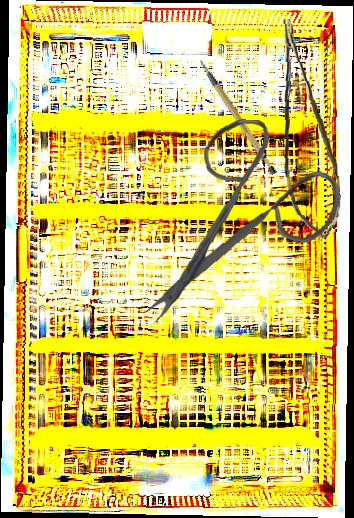Iris Scissors: (142, 114, 345, 334)
Micro Scissor: (276, 16, 345, 241)
Scalpel Handle: (198, 49, 279, 183)
